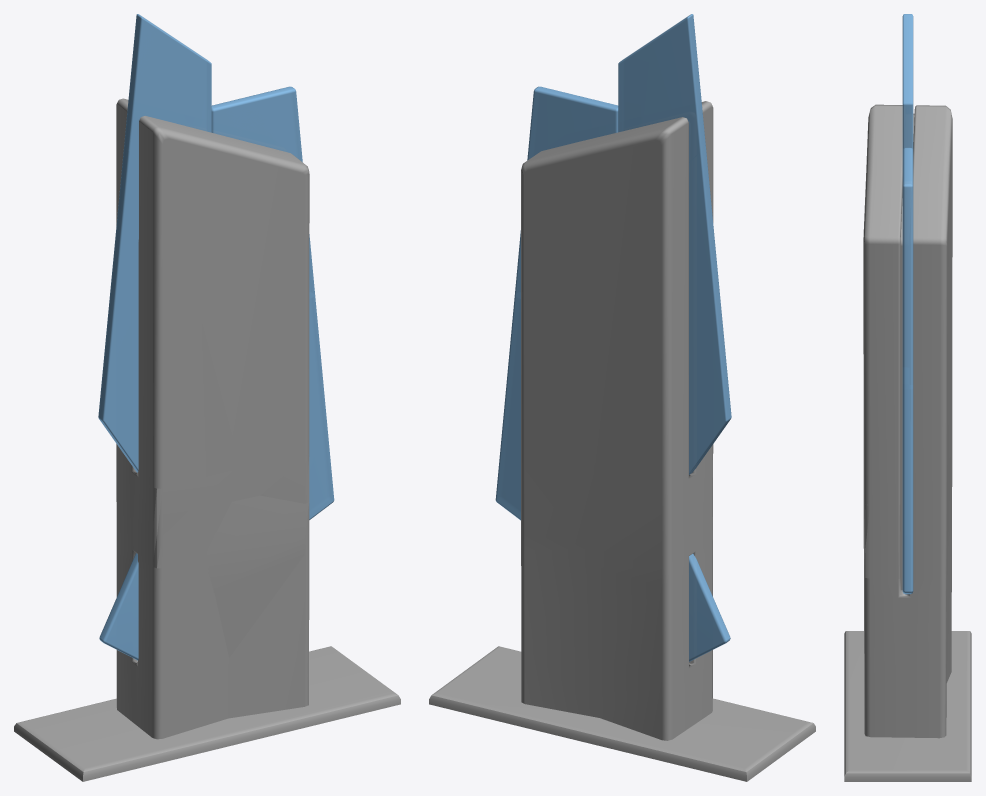
File: sculpture1.fbx
The picture shows the model from 3 angles, left to right: view 1: azimuth 30°, elevation 25°; view 2: azimuth 150°, elevation 25°; view 3: azimuth 270°, elevation 25°; orthographic projection. The views are drawn at different scales.
Visible parts, largest first — view 1: Sculpture1, scupture1_broken4, scupture1_brokenvitre1, scupture1_brokenvitre6, scupture1_brokenvitre3, scupture1_brokenvitre2, scupture1_broken3, scupture1_brokenvitre, scupture1_broken2; view 2: Sculpture1, scupture1_brokenvitre1, scupture1_brokenvitre6, scupture1_brokenvitre3, scupture1_brokenvitre2, scupture1_brokenvitre, scupture1_broken3; view 3: Sculpture1, scupture1_brokenvitre3, scupture1_brokenvitre2, scupture1_broken2, scupture1_brokenvitre6, scupture1_broken4.
Part boxes in pixels (bbox=[...]): Sculpture1: bbox=[14, 14, 400, 781]; scupture1_broken4: bbox=[206, 495, 309, 657]; scupture1_brokenvitre1: bbox=[99, 148, 138, 472]; scupture1_brokenvitre6: bbox=[124, 14, 211, 159]; scupture1_brokenvitre3: bbox=[211, 87, 314, 298]; scupture1_brokenvitre2: bbox=[309, 297, 333, 519]; scupture1_broken3: bbox=[138, 471, 231, 568]; scupture1_brokenvitre: bbox=[99, 553, 138, 660]; scupture1_broken2: bbox=[260, 456, 309, 503]; Sculpture1: bbox=[429, 14, 815, 781]; scupture1_brokenvitre1: bbox=[689, 148, 731, 474]; scupture1_brokenvitre6: bbox=[618, 14, 705, 161]; scupture1_brokenvitre3: bbox=[514, 87, 618, 298]; scupture1_brokenvitre2: bbox=[496, 296, 520, 520]; scupture1_brokenvitre: bbox=[689, 553, 730, 661]; scupture1_broken3: bbox=[696, 460, 712, 549]; Sculpture1: bbox=[844, 14, 971, 781]; scupture1_brokenvitre3: bbox=[902, 148, 913, 389]; scupture1_brokenvitre2: bbox=[902, 389, 913, 593]; scupture1_broken2: bbox=[864, 504, 900, 549]; scupture1_brokenvitre6: bbox=[902, 14, 913, 149]; scupture1_broken4: bbox=[863, 546, 900, 579].
Bounding box in the file's own units: 89.38 × 193 × 33.52.
